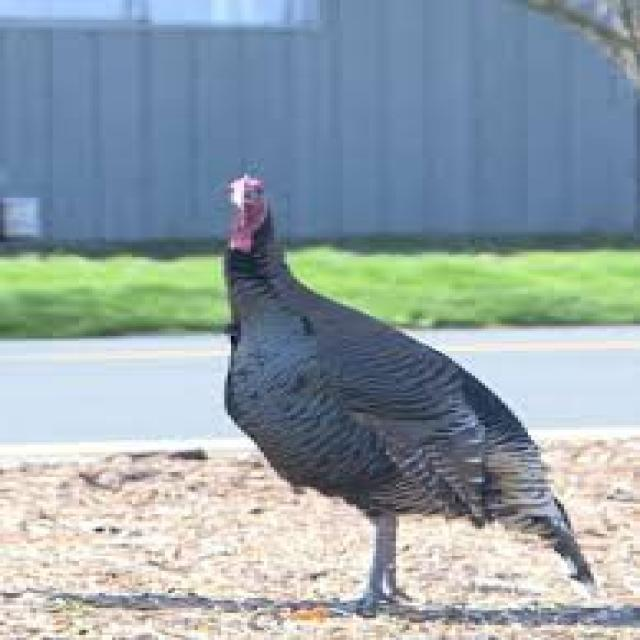Turkey: (186, 141, 598, 622)
